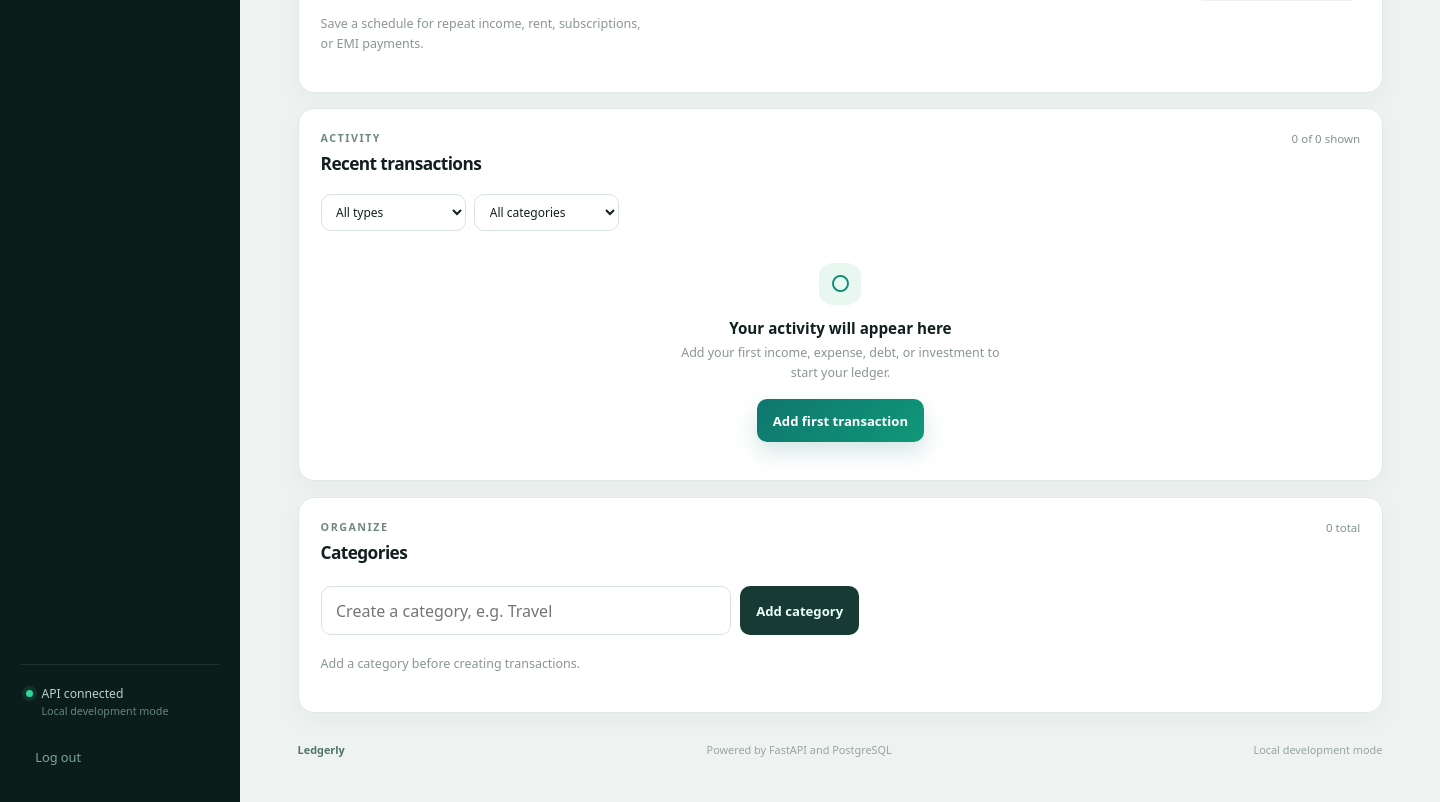
Test: App › clears the session when the user logs out
(page scrolled)
Click the button "Log out" at (120,757), box [21,734,219,779]
(page scrolled)
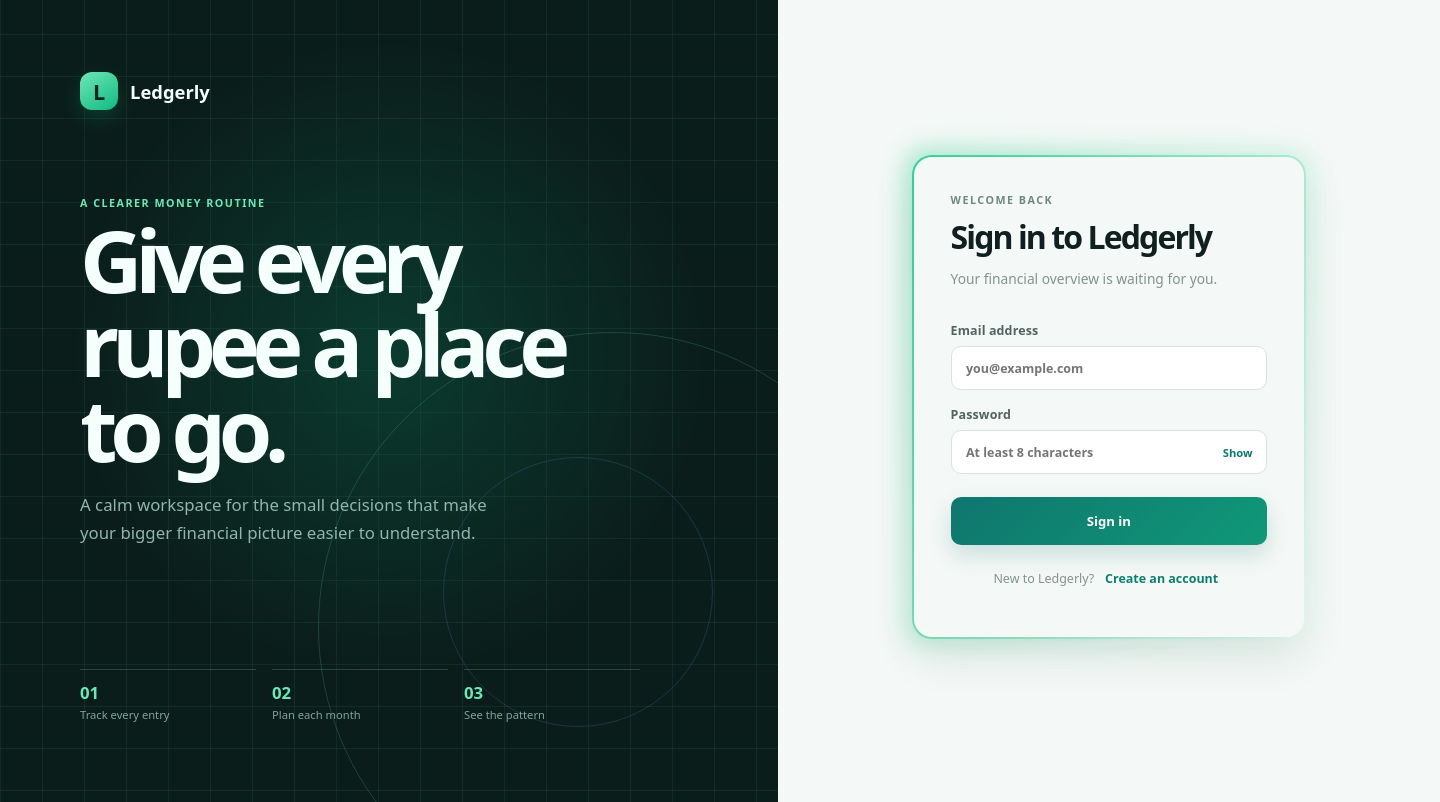
Check: the heading "Sign in to Ledgerly" is shown, box [951,215,1211,258]
